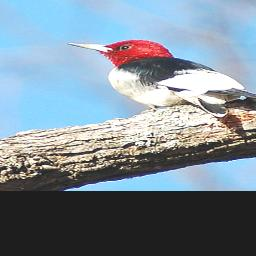Woodpecker: (62, 39, 256, 119)
